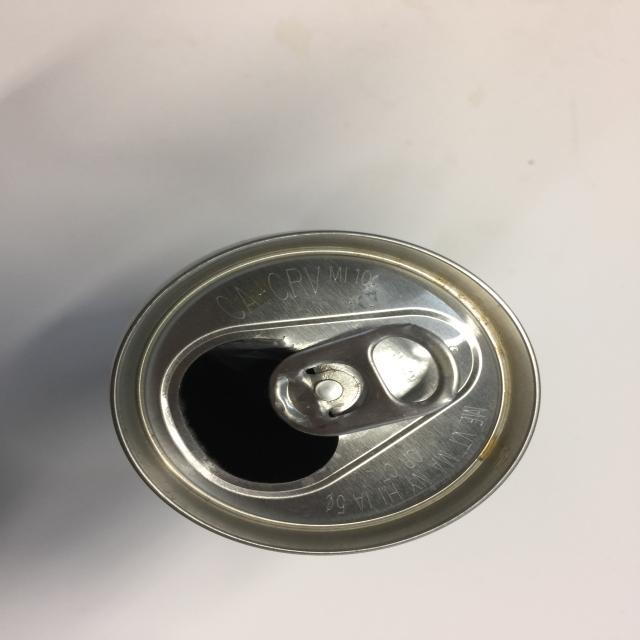metal: (107, 230, 544, 558)
